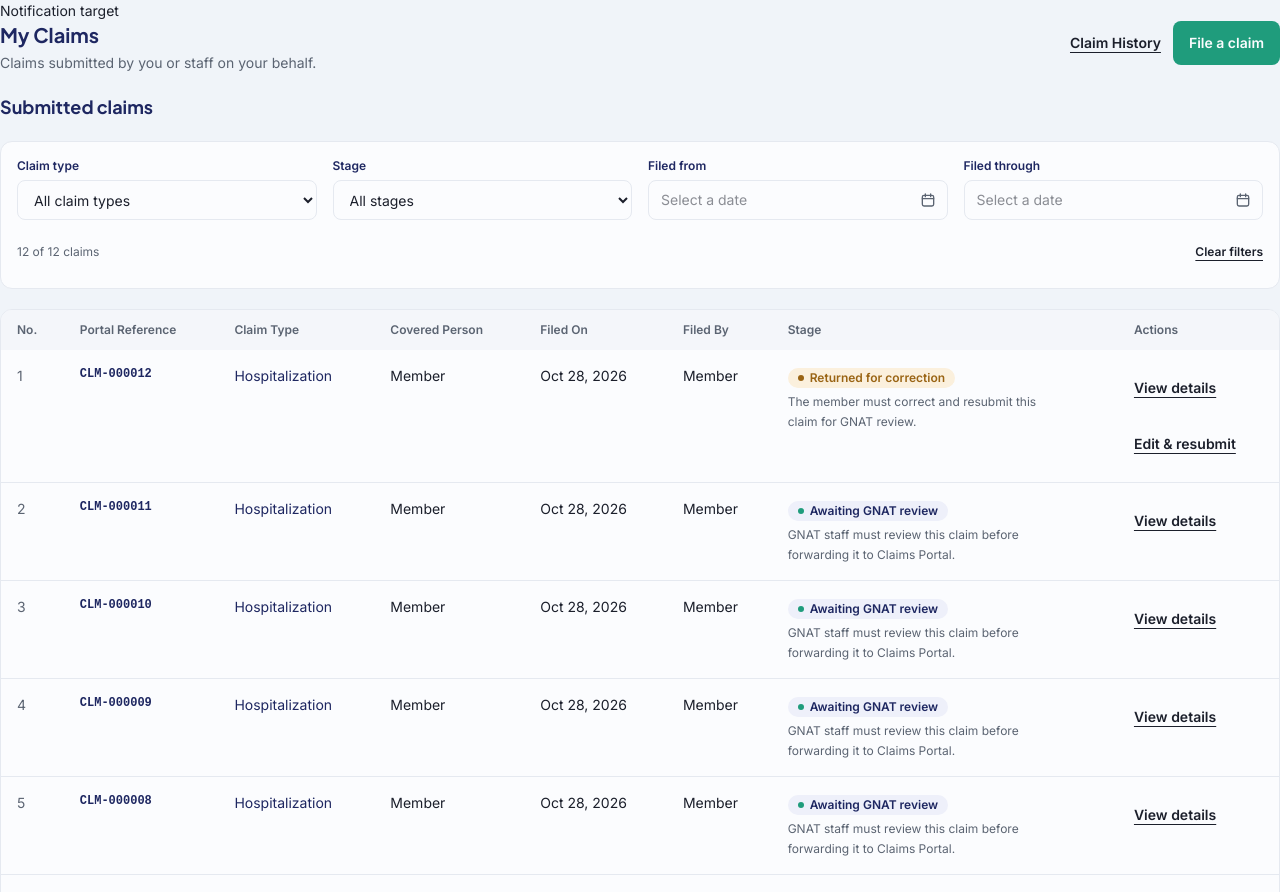
Test: clears active filters when a notification targets a hidden claim
Select "Returned for correction" in the dropdown labelled "Stage": (482, 200) left=332, top=180, right=632, bottom=220
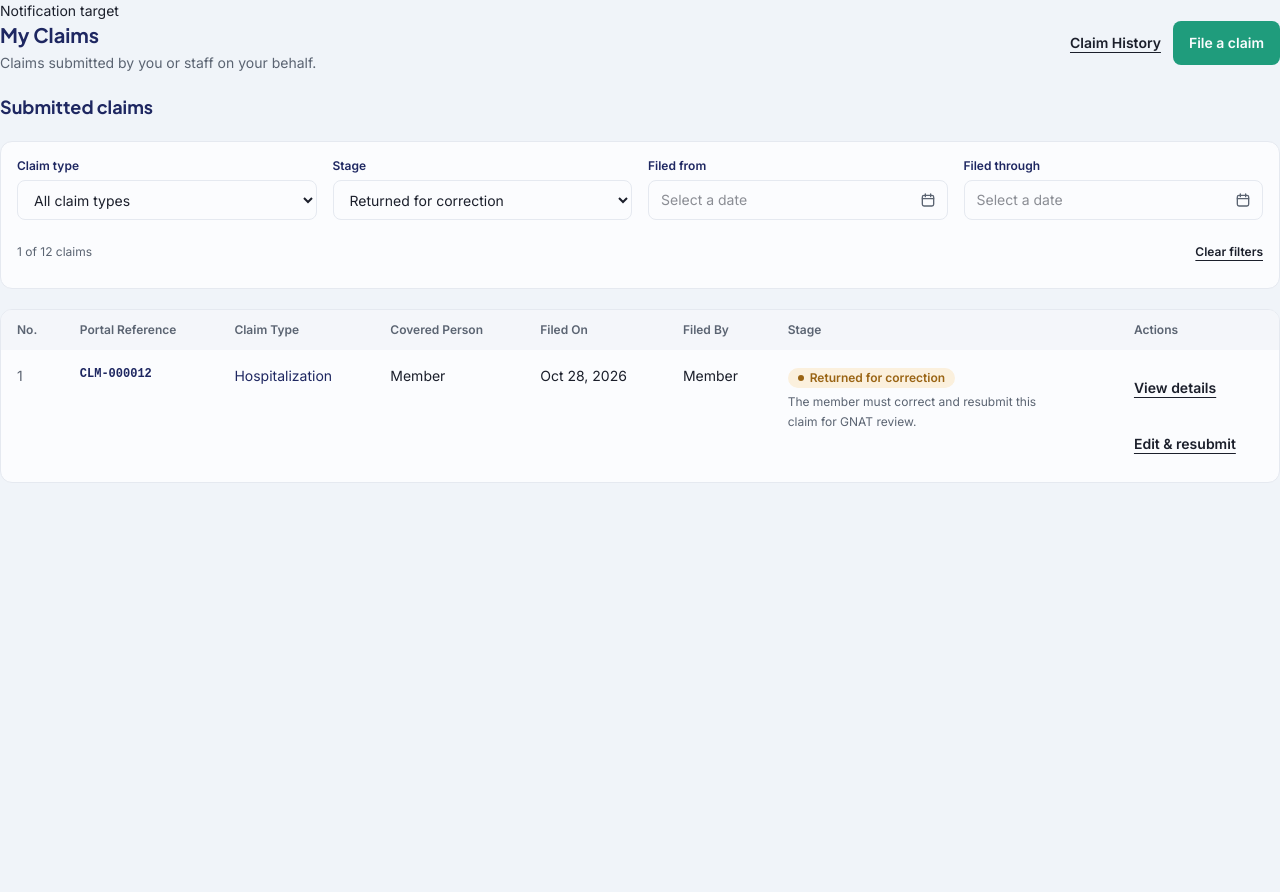
Click the link "Notification target": (59, 10) left=0, top=2, right=119, bottom=19
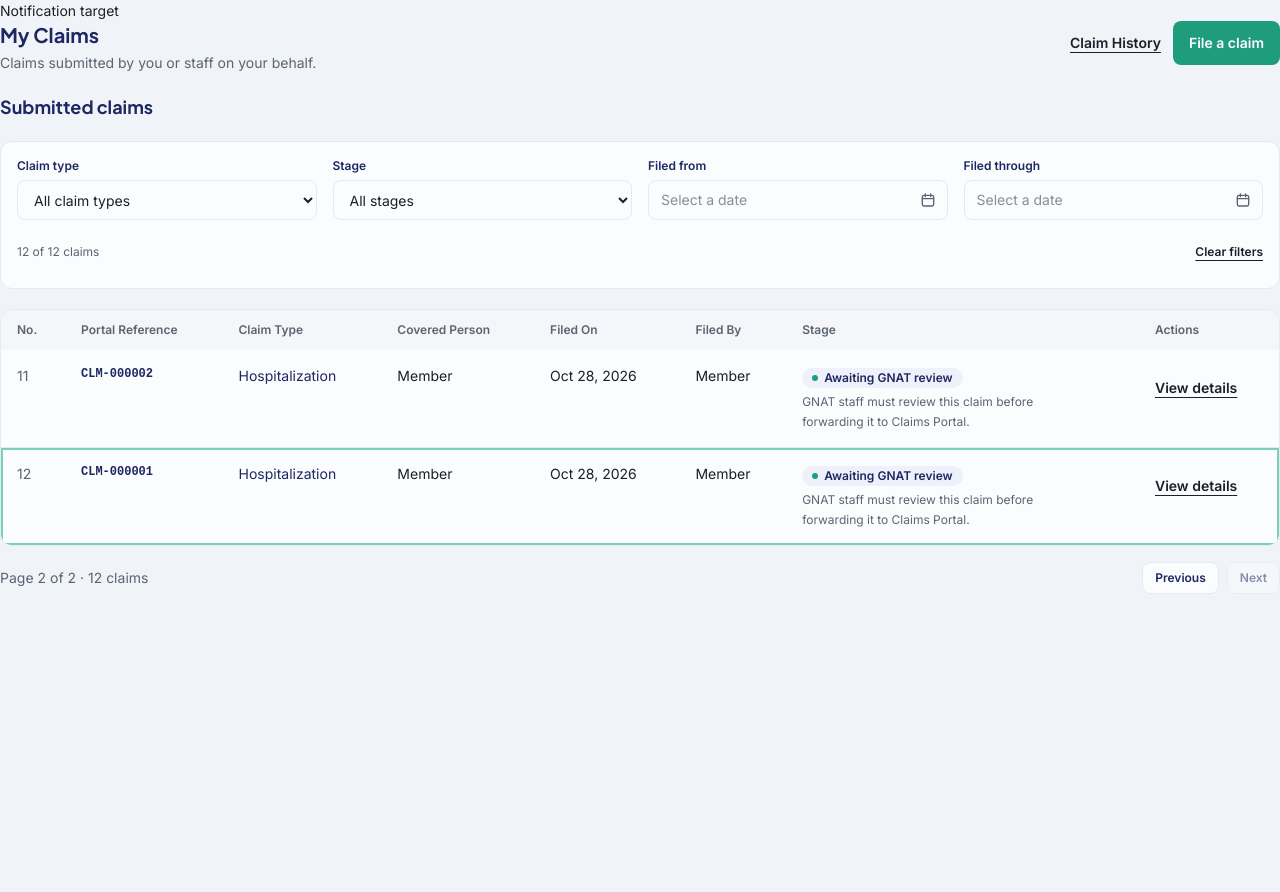
Now the text "Page 2 of 2 · 12 claims" is shown, box left=0, top=568, right=148, bottom=588
